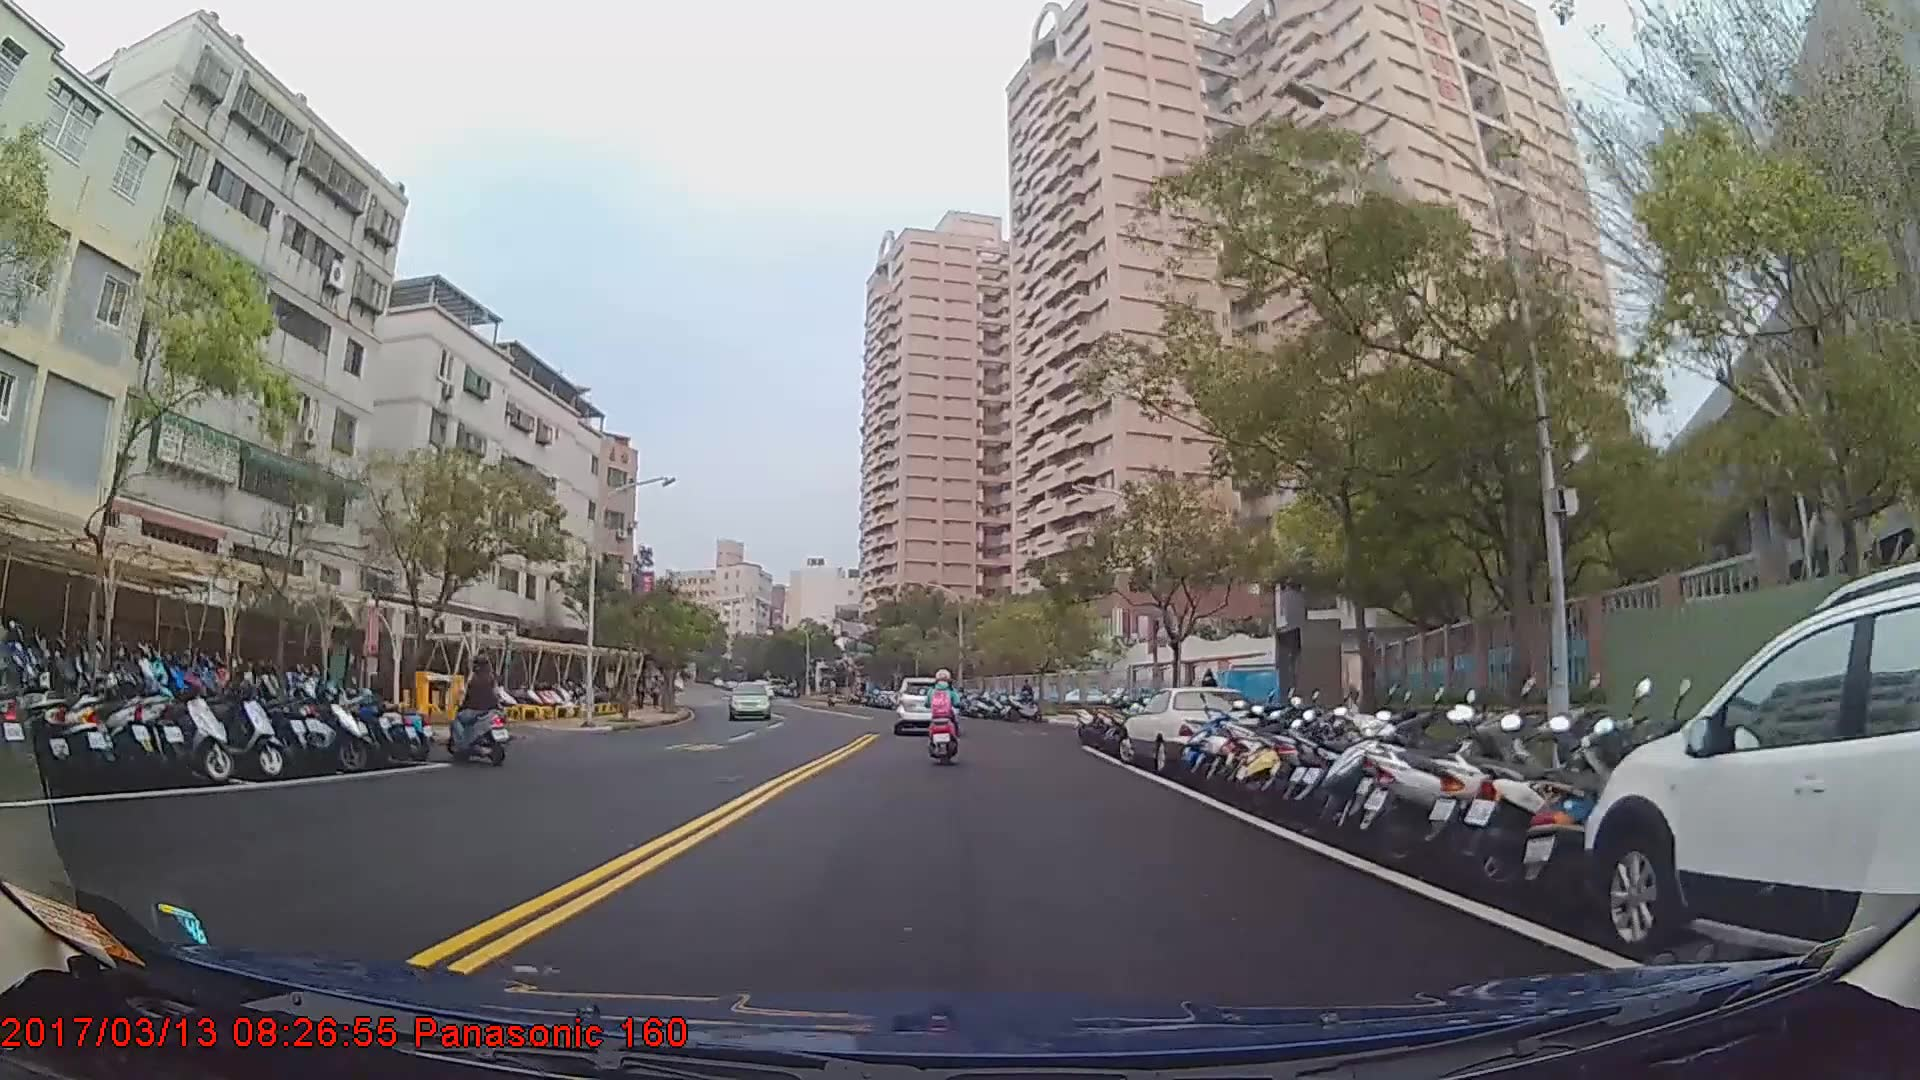pedestrian: (1201, 669, 1222, 724)
rider: (450, 650, 504, 770), (924, 668, 963, 769)
vehicle: (1583, 554, 1920, 983), (1117, 686, 1261, 775), (889, 673, 956, 731), (725, 680, 773, 721)
